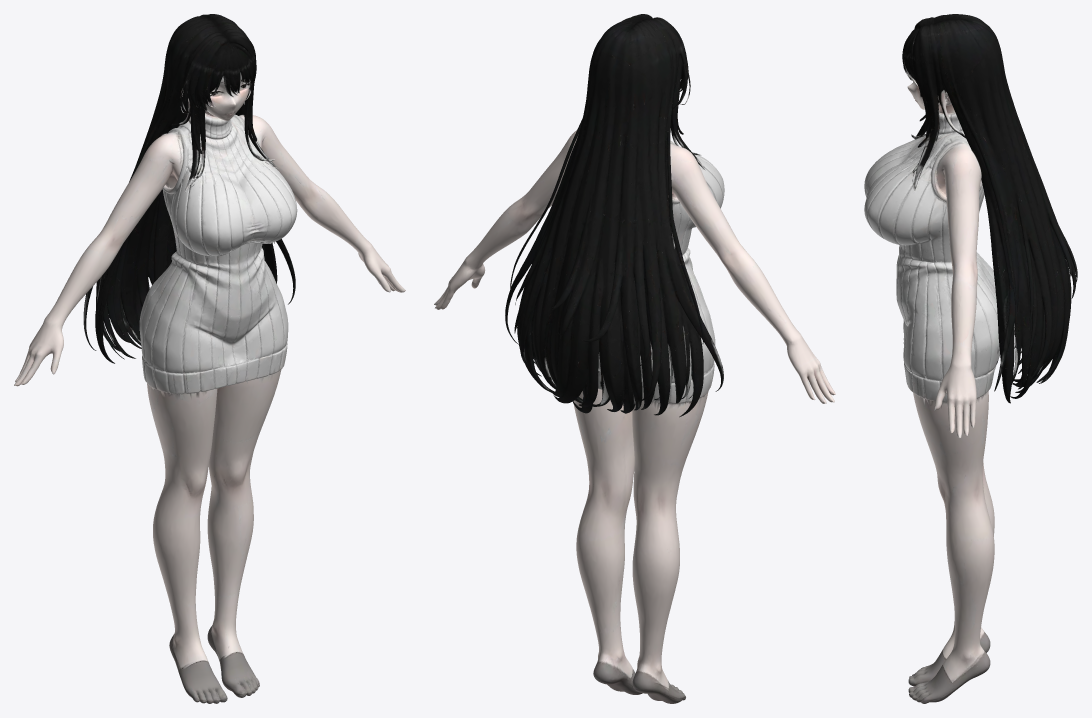
The model's file is evelynmodel.glb.
The picture shows the model from 3 angles, left to right: view 1: azimuth 30°, elevation 25°; view 2: azimuth 150°, elevation 25°; view 3: azimuth 270°, elevation 25°; orthographic projection. The views are drawn at different scales.
Bounding box in the file's own units: 1.17 × 1.9 × 0.5468.
Materials: 1 (1 with a texture image).
